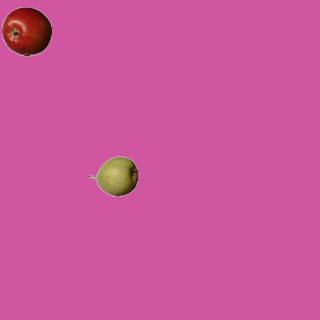Apple Braeburn: (1, 6, 51, 56)
Pear: (87, 151, 137, 201)
